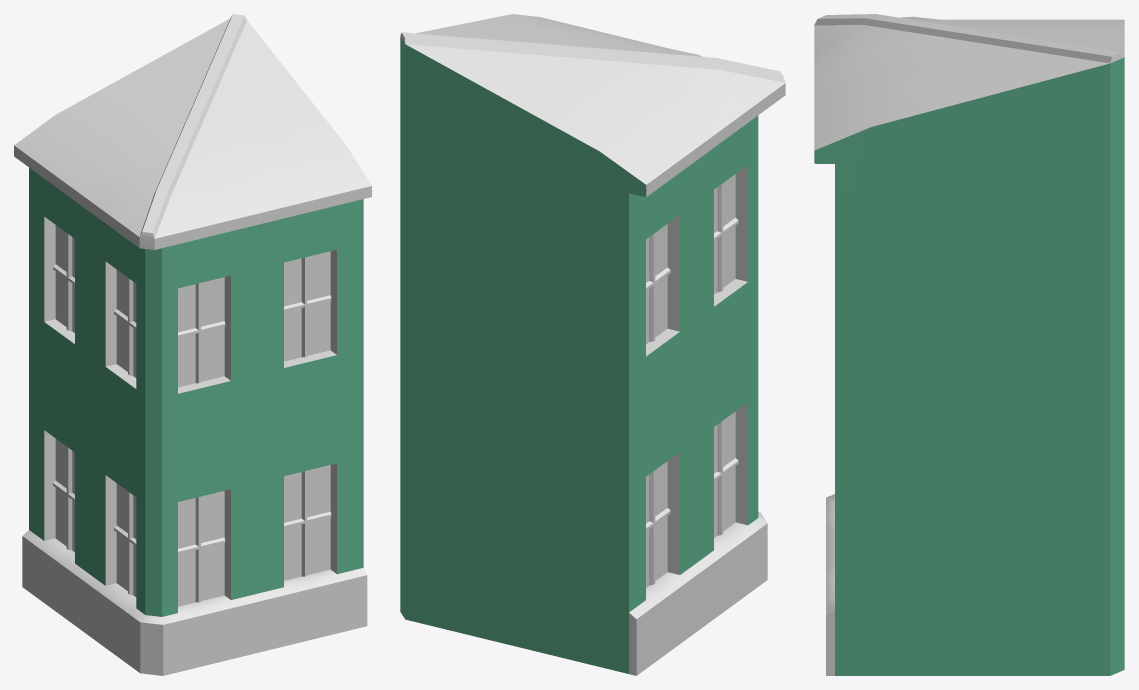
The model's file is CornerBuilding_Convex.fbx.
The picture shows the model from 3 angles, left to right: view 1: azimuth 30°, elevation 25°; view 2: azimuth 150°, elevation 25°; view 3: azimuth 270°, elevation 25°; orthographic projection. The views are drawn at different scales.
Visible parts, largest first — view 1: Concept4; view 2: Concept4; view 3: Concept4.
Part boxes in pixels (bbox=[...]): Concept4: bbox=[14, 14, 371, 675]; Concept4: bbox=[400, 14, 785, 675]; Concept4: bbox=[814, 14, 1124, 675].
Bounding box in the file's own units: 2.03 × 4.46 × 2.03.
